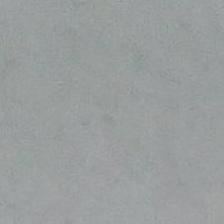Non_Crack: (10, 30, 218, 170)
